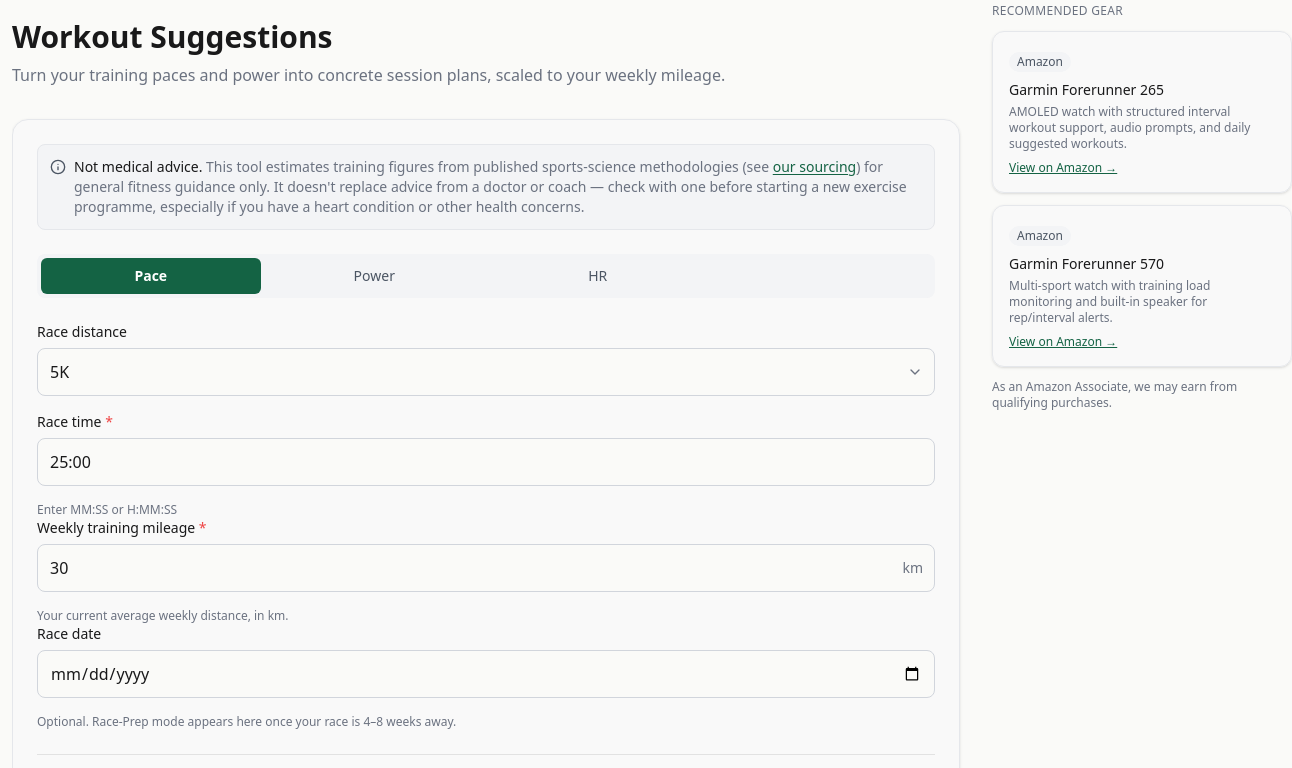
HR mode › shows empty state when nothing is entered
The image size is (1292, 768).
Click the tab "HR": (598,276) [488, 258, 708, 294]
(page scrolled)
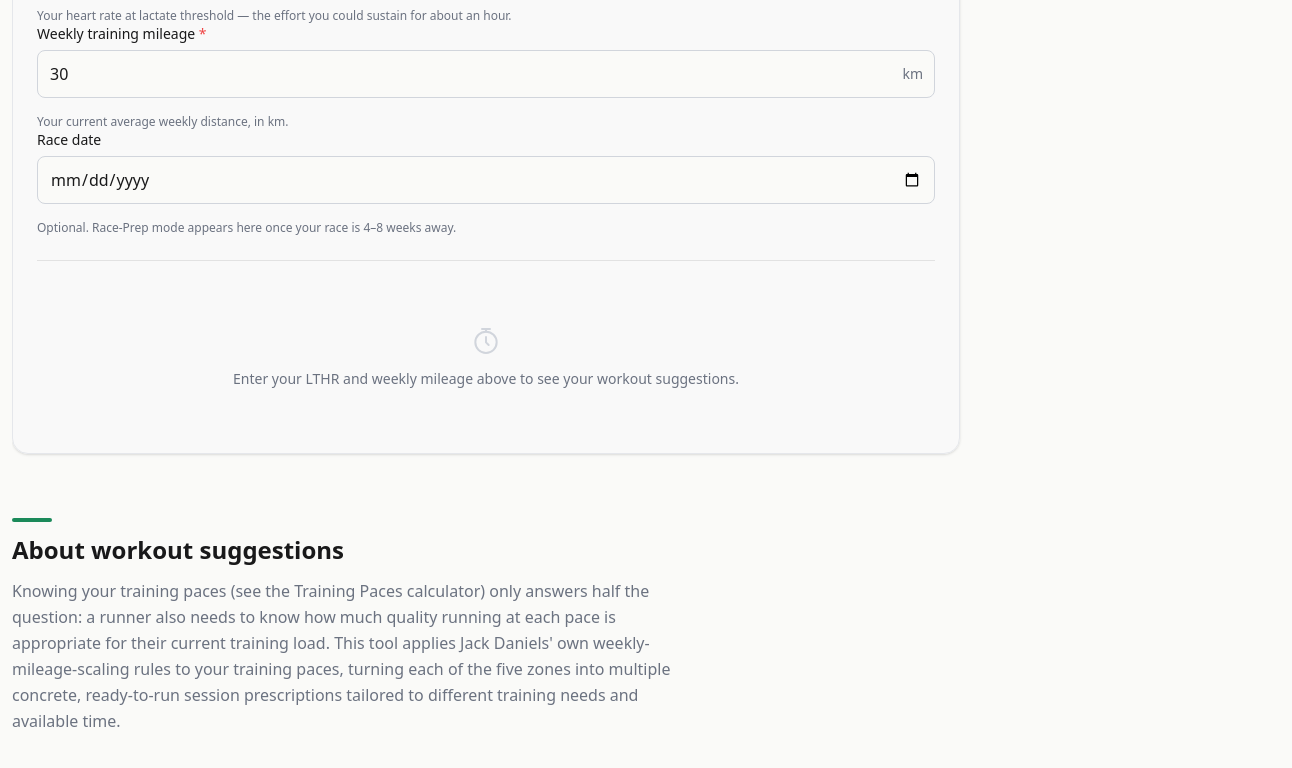
Expected: the text "Enter your LTHR and weekly mileage" is shown, [233, 369, 739, 388]
